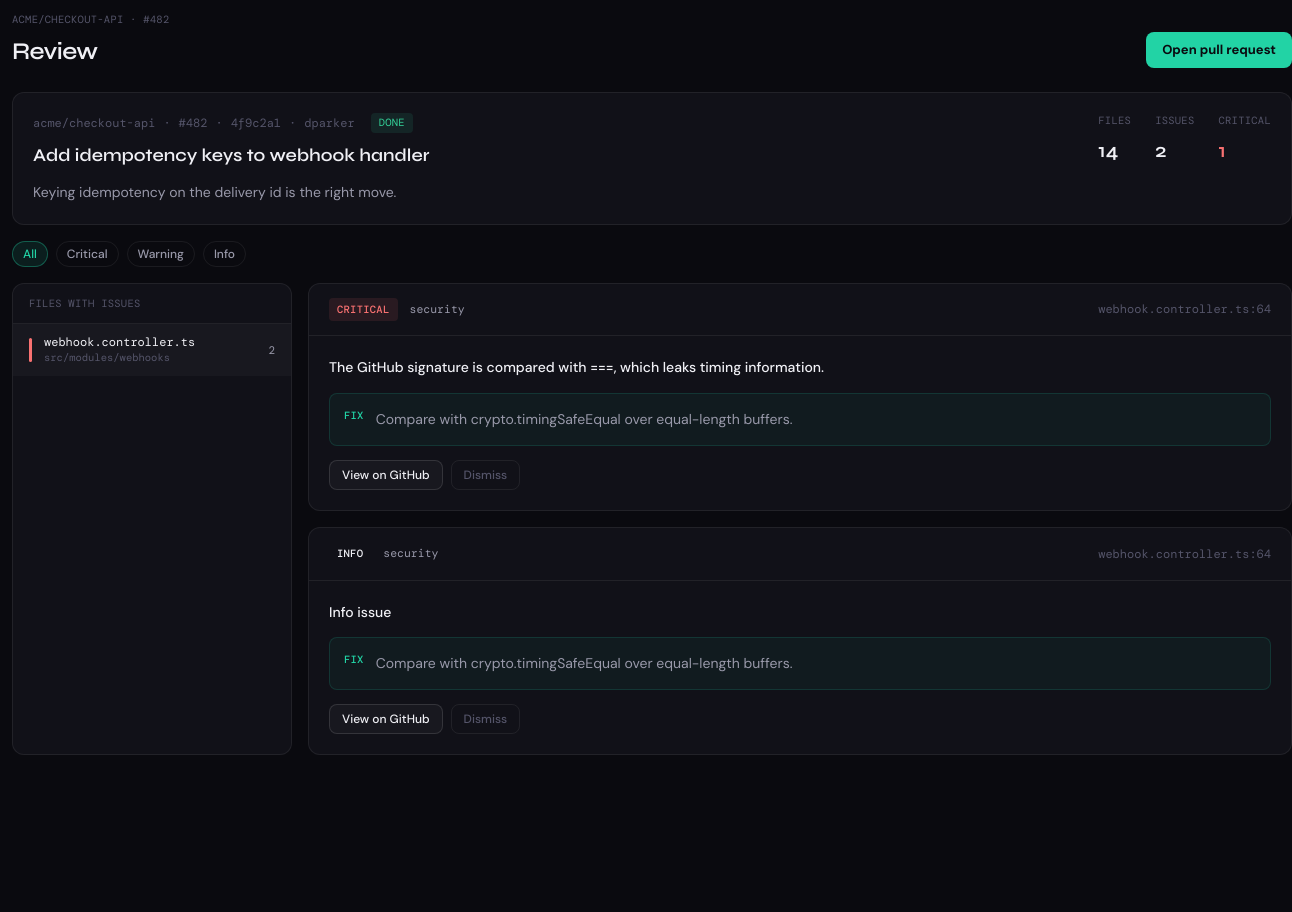
ReviewDetailContent › filters issues by severity client-side
The width and height of the screenshot is (1292, 912).
Expected: the text "Info issue" is shown, x1=329 y1=602 x2=391 y2=620
Click the button "critical". click: (87, 254)
box: x1=56 y1=240 x2=118 y2=266
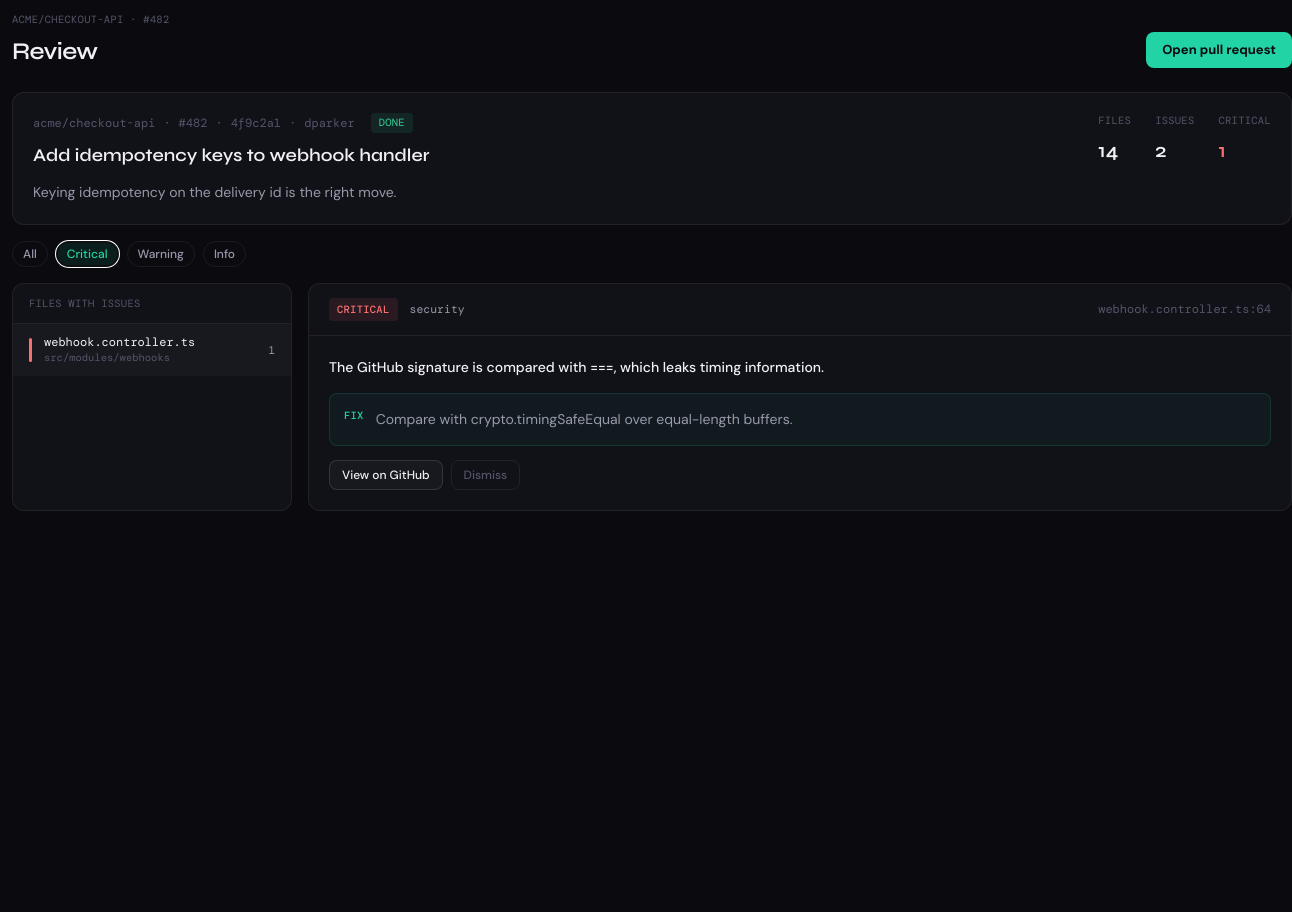
Expected: the text "The GitHub signature is compared with ===, which leaks timing information." is shown, x1=329 y1=358 x2=824 y2=376
Expected: the text "Info issue" is gone
